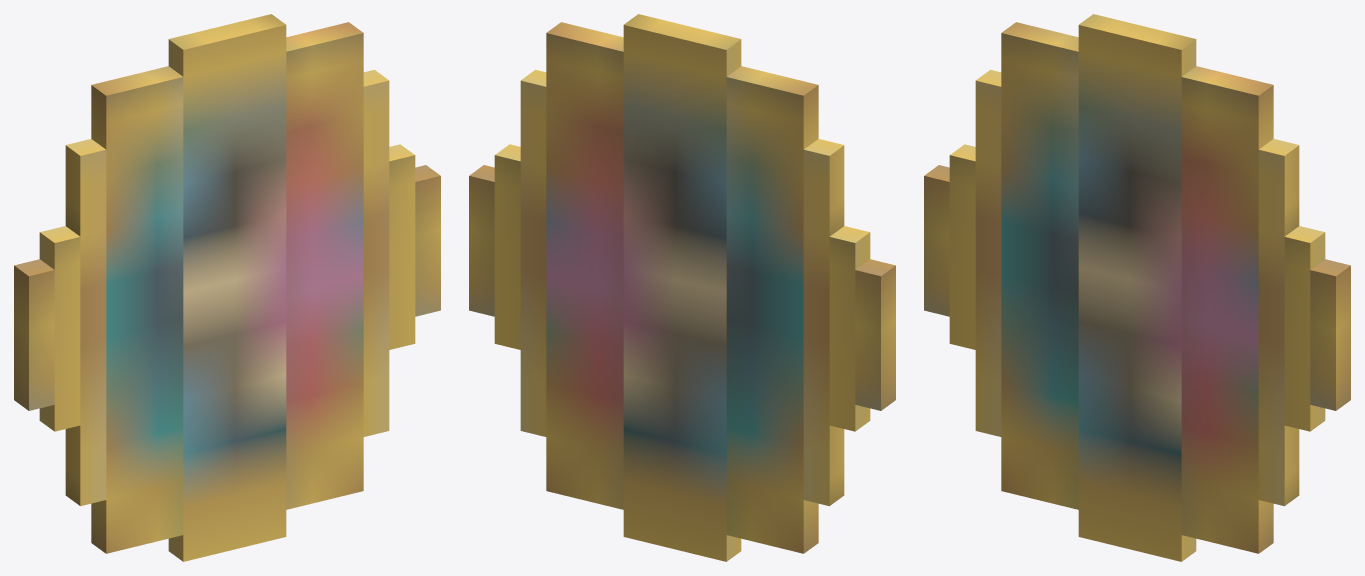
Rendered from FamilyPortrait_02.fbx.
3 renders of one model, left to right at view 1: azimuth 30°, elevation 25°; view 2: azimuth 150°, elevation 25°; view 3: azimuth 330°, elevation 25°, orthographic.
Parts seen in each view (by area): view 1: FamilyPortrait_02; view 2: FamilyPortrait_02; view 3: FamilyPortrait_02.
Part boxes in pixels (x1,y1,x2,y2): FamilyPortrait_02: (14, 14, 440, 561); FamilyPortrait_02: (469, 14, 895, 561); FamilyPortrait_02: (924, 14, 1350, 561).
Size of the model in its own units: 80 by 5 by 95.
1 material, 1 textured.
